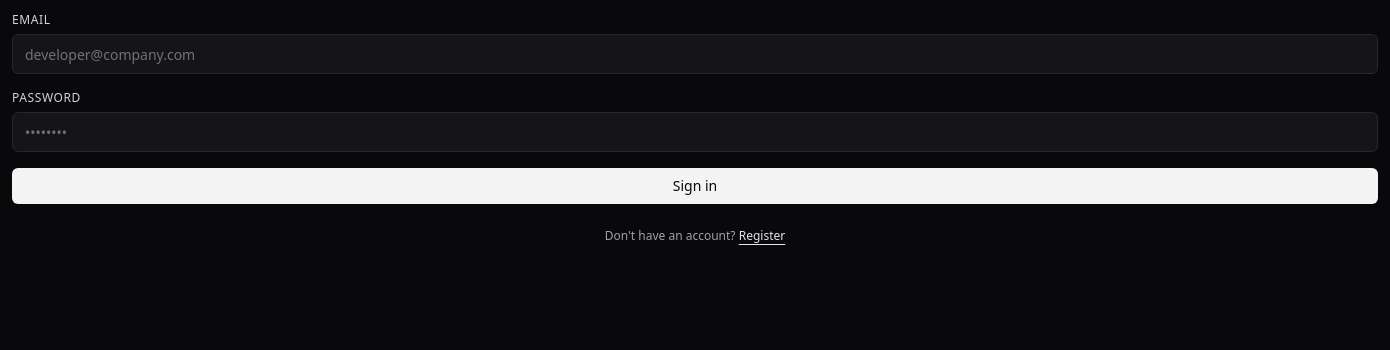
Scenario: Auth UI Flow › LoginForm › validates required fields before submitting
The width and height of the screenshot is (1390, 350).
Step 1. Click the button "Sign in" → (695, 186), box [12,168,1378,204]
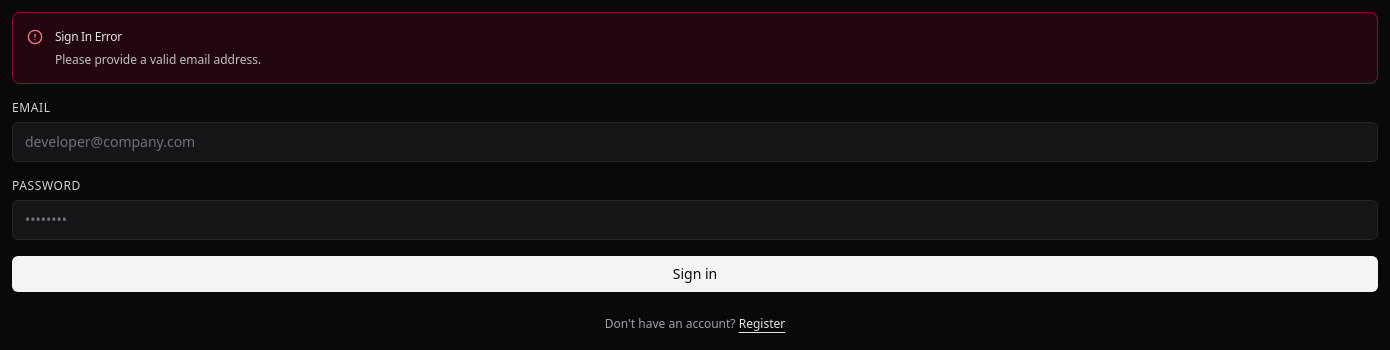
Expected: the text "Please provide a valid email address." is shown, [55,50,261,68]
